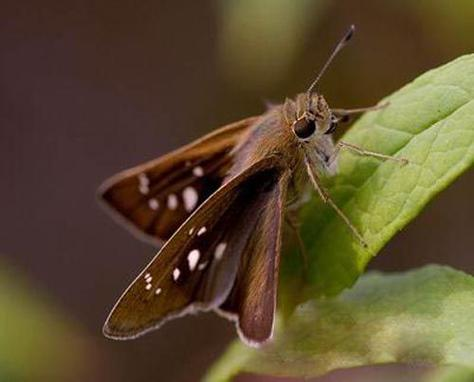Hesperiidae: (93, 22, 393, 343)
